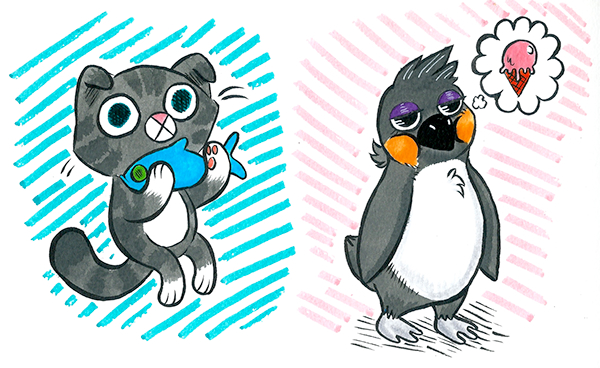bird: (336, 37, 527, 368)
cat: (28, 39, 303, 367)
